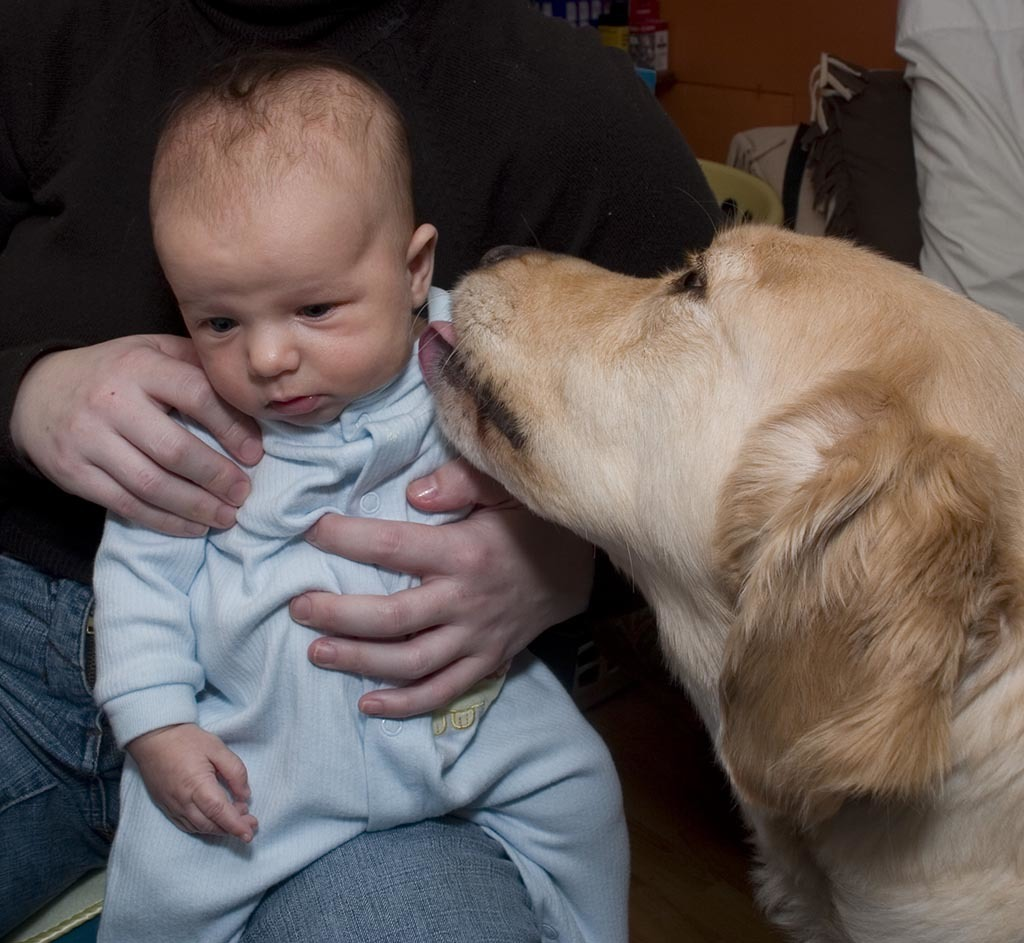Person: (0, 0, 720, 943), (895, 0, 1024, 330)
